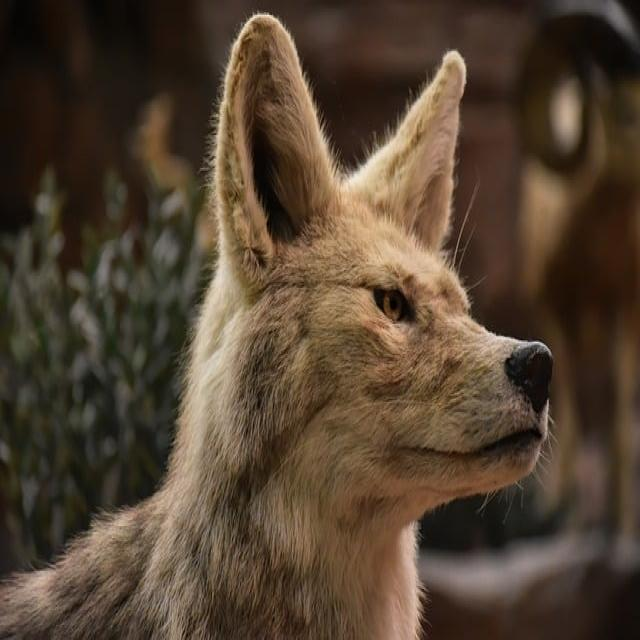Carnivorous: (0, 13, 554, 640)
